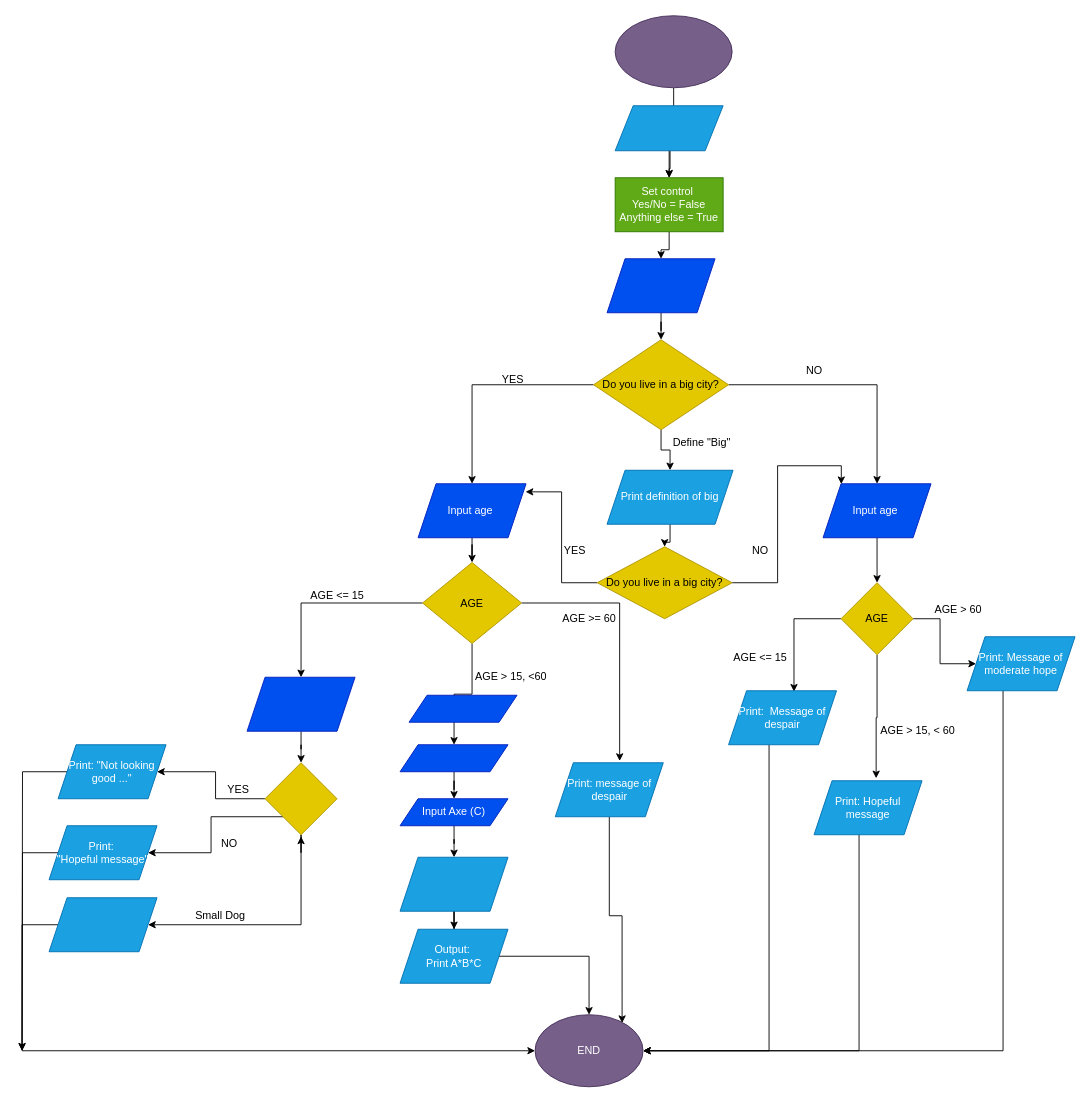
Image size: 1091x1103. Some labels were removed from this diagram. Each missing label, with the box of its shape:
Big Dog?: (264, 762, 337, 835)
Input Big City Q: (606, 258, 715, 313)
Input Resource (B): (399, 744, 508, 772)
Input strength (A): (408, 694, 517, 722)
Input: Big dog ?: (246, 676, 355, 731)
Output: Print "Days of survival:": (399, 856, 508, 911)
Prin: "Insult small dog": (48, 897, 157, 952)
Print introduction: (614, 105, 723, 151)
Zombie Apocalypse Survival Predictor: (614, 15, 732, 88)
